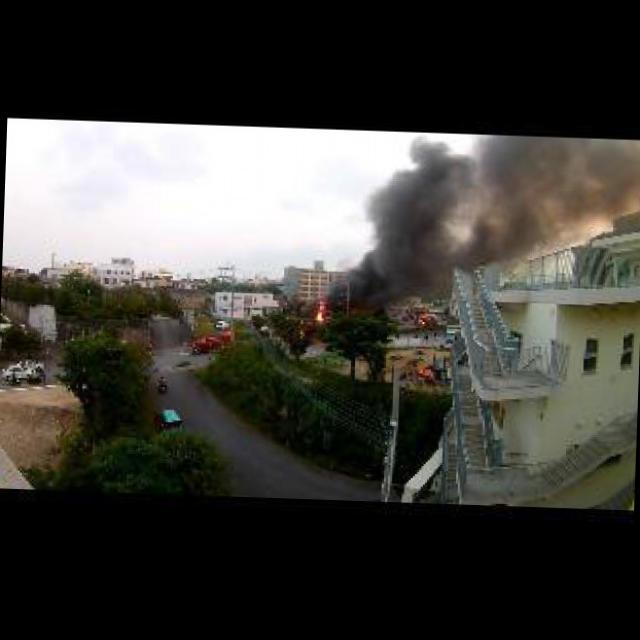fire: (315, 301, 328, 320)
smoke: (332, 130, 640, 319)
